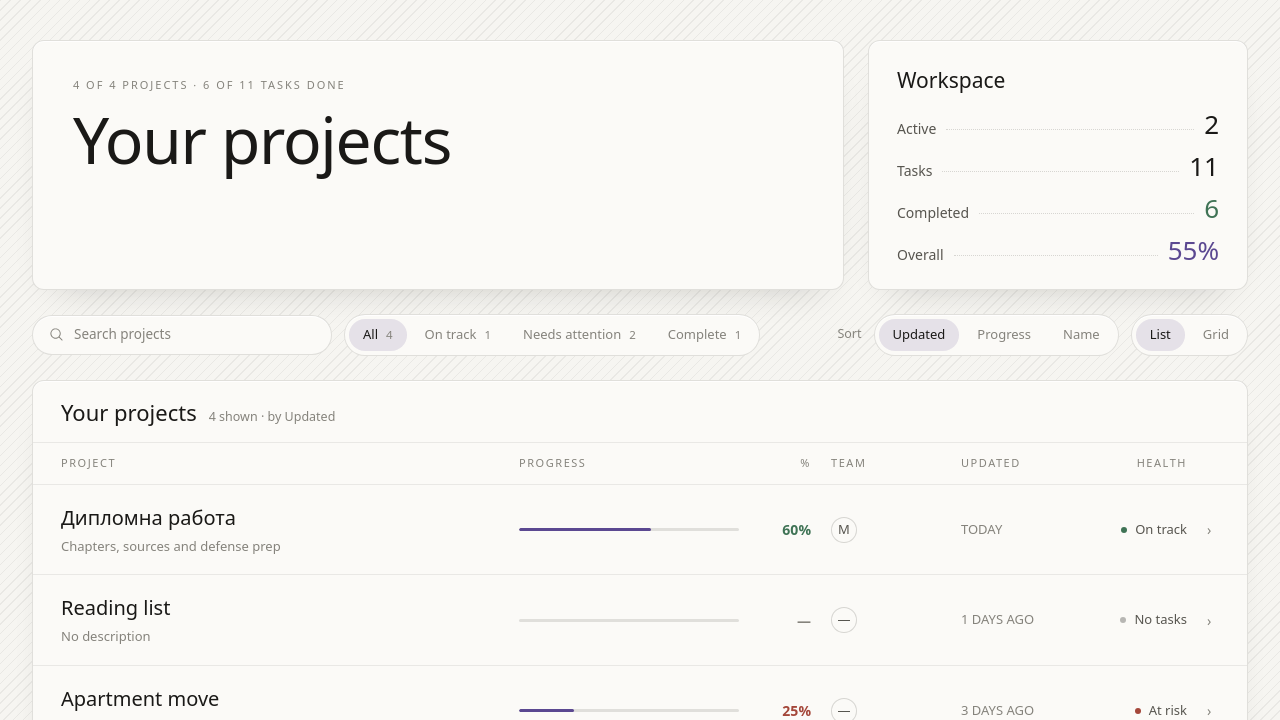
Test: ProjectsWorkspace — browse › narrows the list to the chosen filter
What coordinates should you click on to do the following:
click the button "Complete 1"
I would click on:
 (705, 334)
Its box is x1=654 y1=318 x2=755 y2=350.
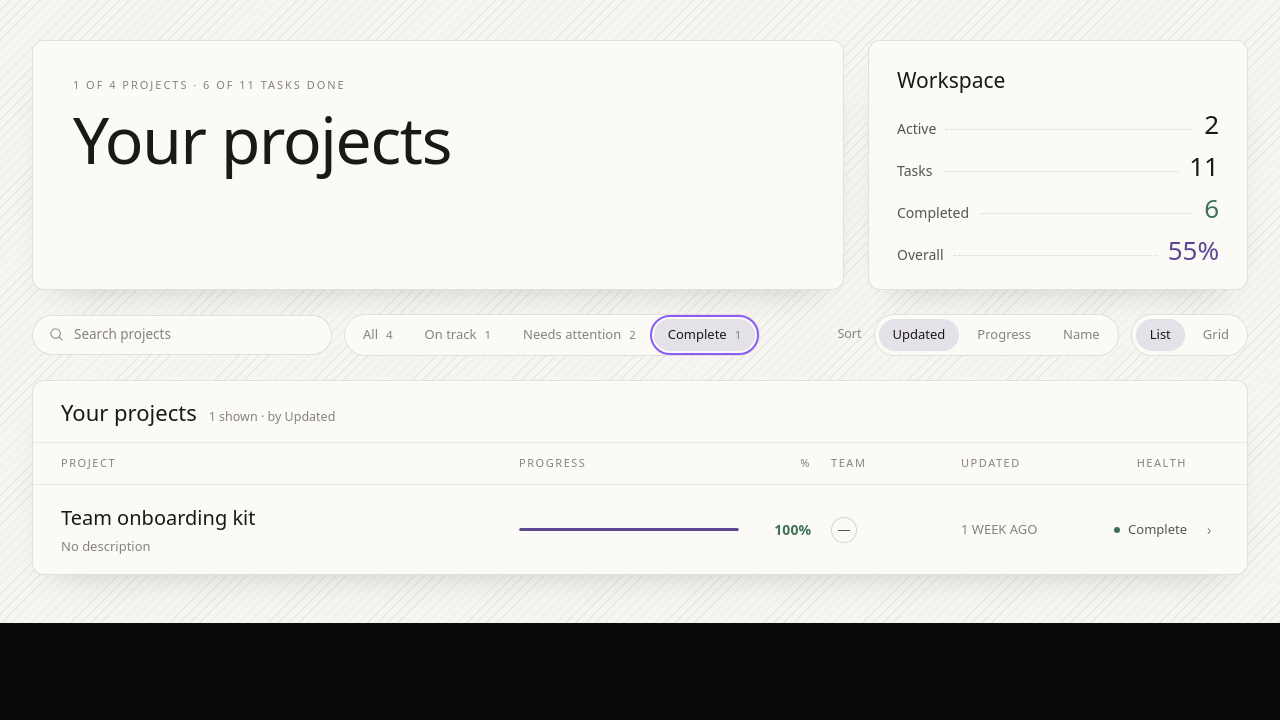
Expected: the button "Team onboarding kit" is shown, x1=61 y1=503 x2=499 y2=533
Expected: the button "Дипломна работа" is gone
